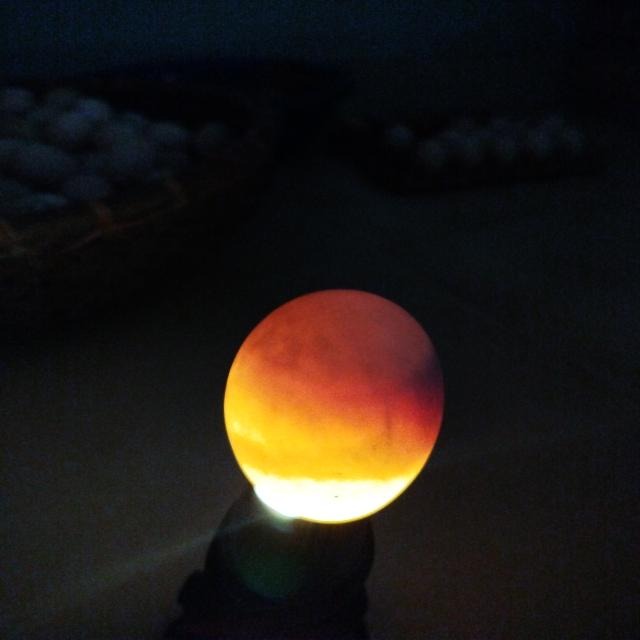Area Infectada: (384, 352, 447, 420)
